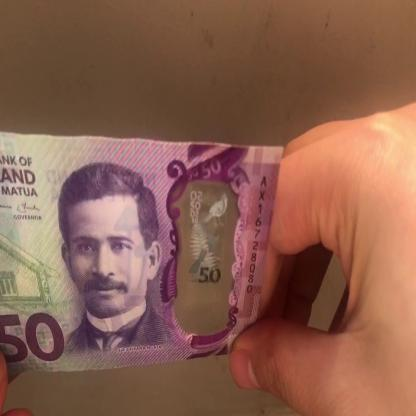50F: (184, 186, 229, 320)
